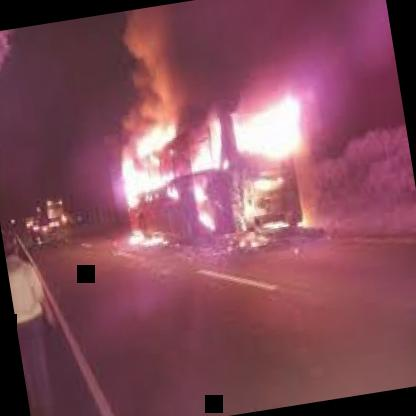fire: (105, 92, 320, 266)
